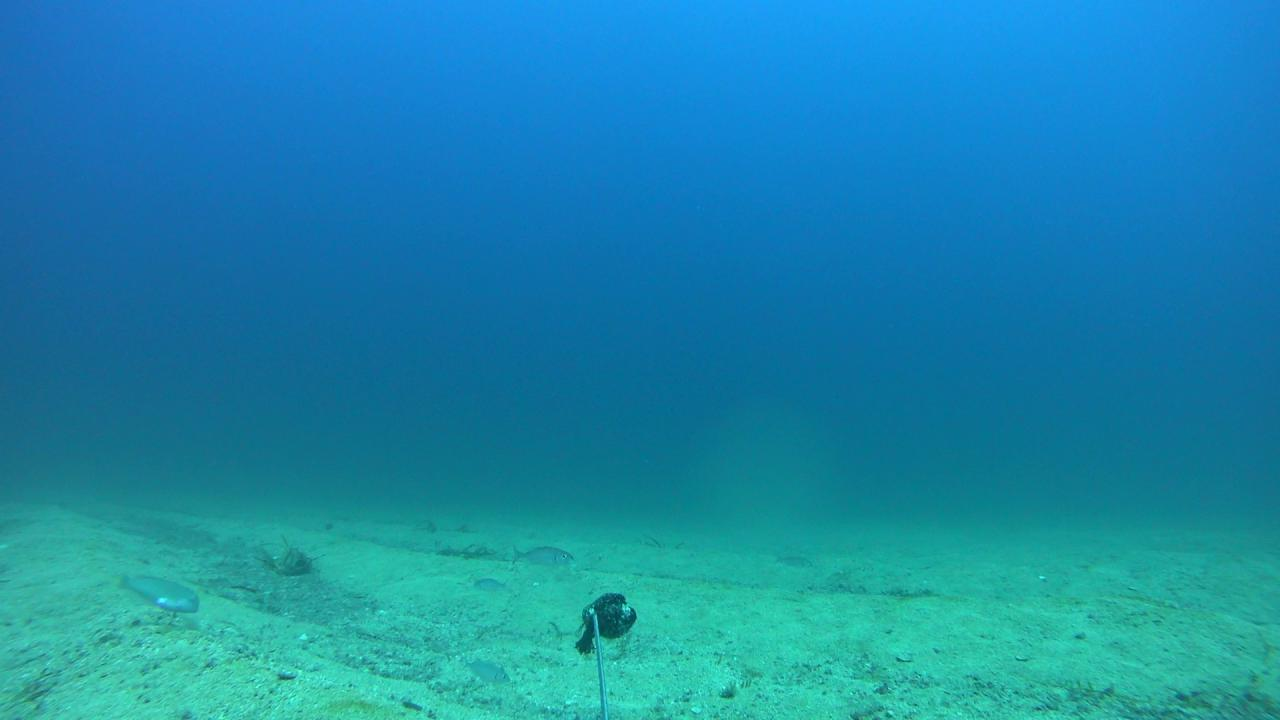pagellus: (509, 544, 573, 568), (461, 654, 510, 681), (771, 553, 814, 570), (473, 574, 510, 591)
